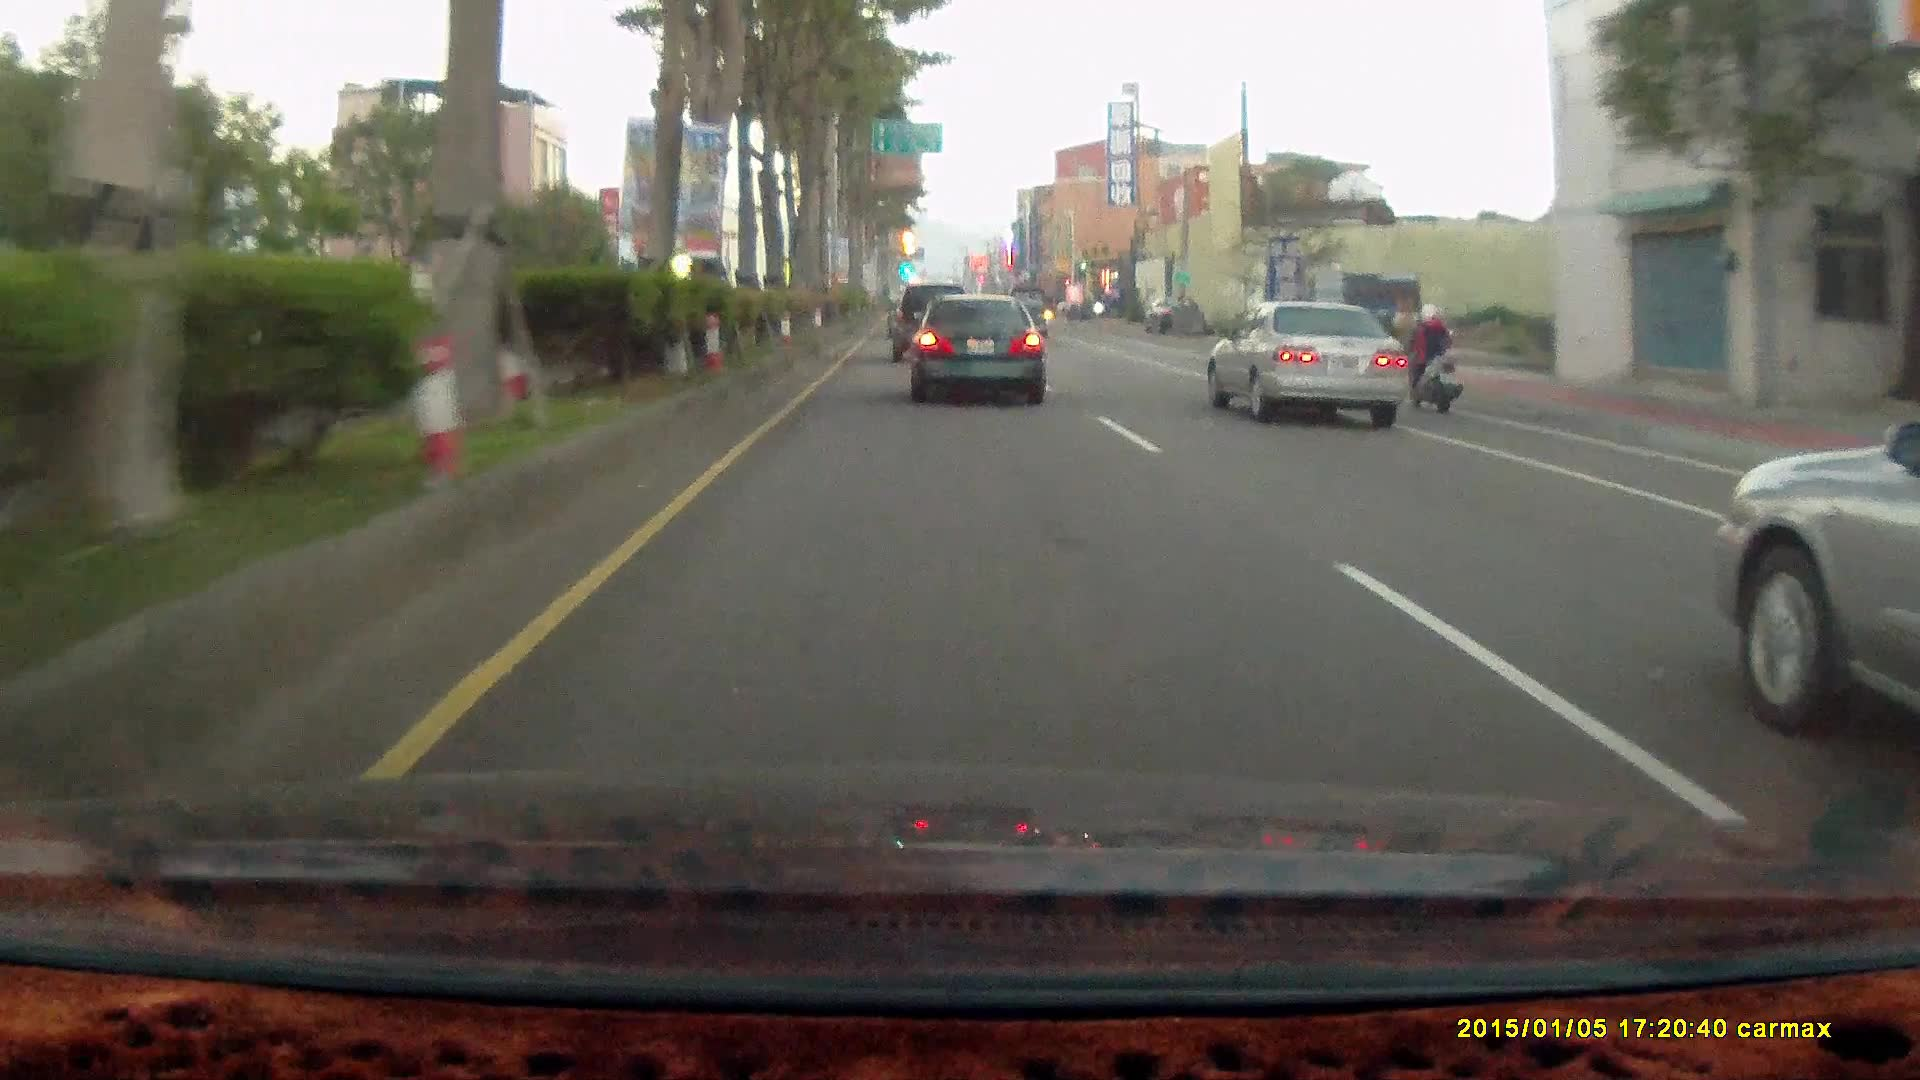rider: (1391, 293, 1472, 423), (1397, 301, 1462, 415)
vehicle: (1730, 403, 1920, 767), (1203, 301, 1409, 429), (1216, 302, 1412, 430), (906, 294, 1046, 406), (906, 295, 1045, 401), (1302, 275, 1421, 369), (889, 283, 973, 363), (890, 283, 972, 363), (1004, 287, 1049, 339), (1090, 285, 1150, 320)
